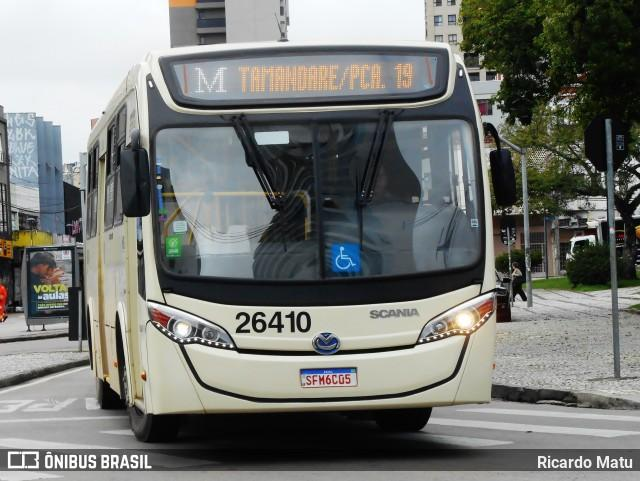TAMANDARE: (236, 60, 346, 97)
